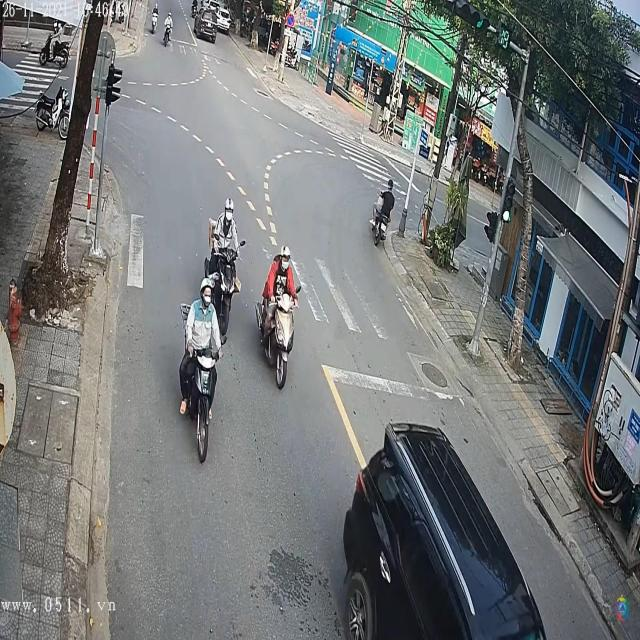car: (337, 421, 553, 639), (195, 9, 219, 47)
motorcycle: (180, 321, 220, 468), (258, 252, 302, 374), (205, 233, 244, 338), (370, 187, 390, 249)
